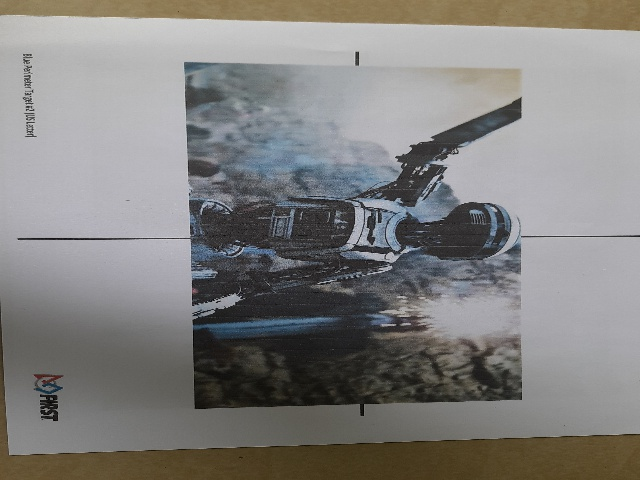bpt2: (8, 22, 622, 437)
